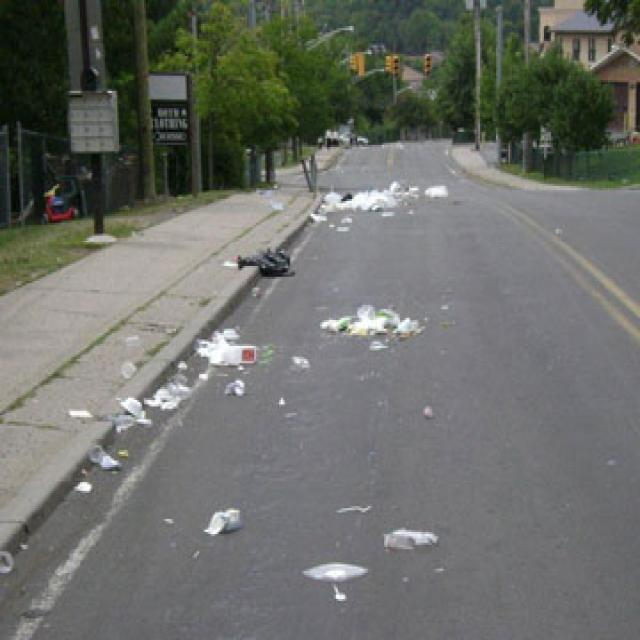Trashbag: (247, 247, 290, 279)
